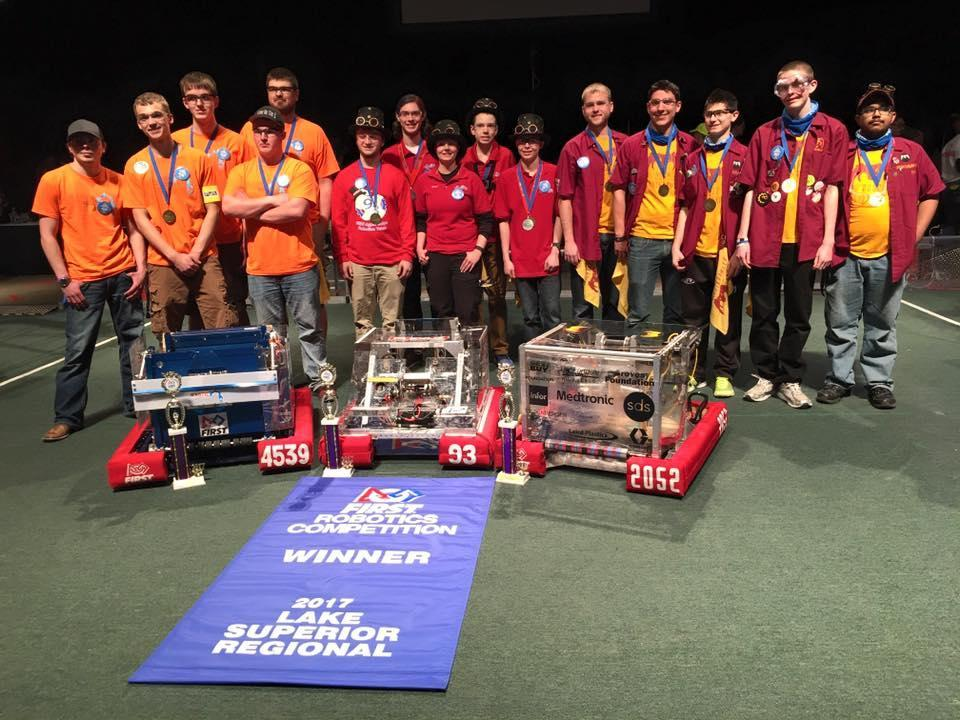robot: (500, 313, 734, 507), (104, 320, 318, 499), (310, 313, 514, 478)
